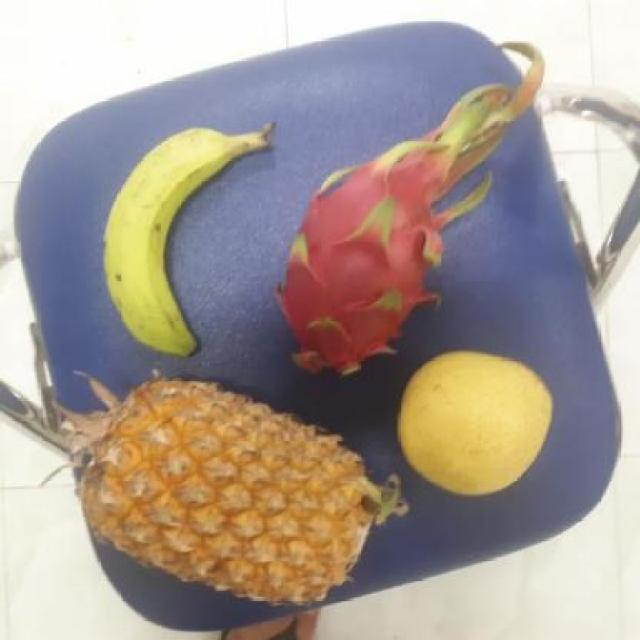banana: (96, 127, 270, 356)
dragon fruit: (267, 137, 462, 381)
pear: (391, 352, 555, 492)
pineapple: (72, 385, 380, 609)
